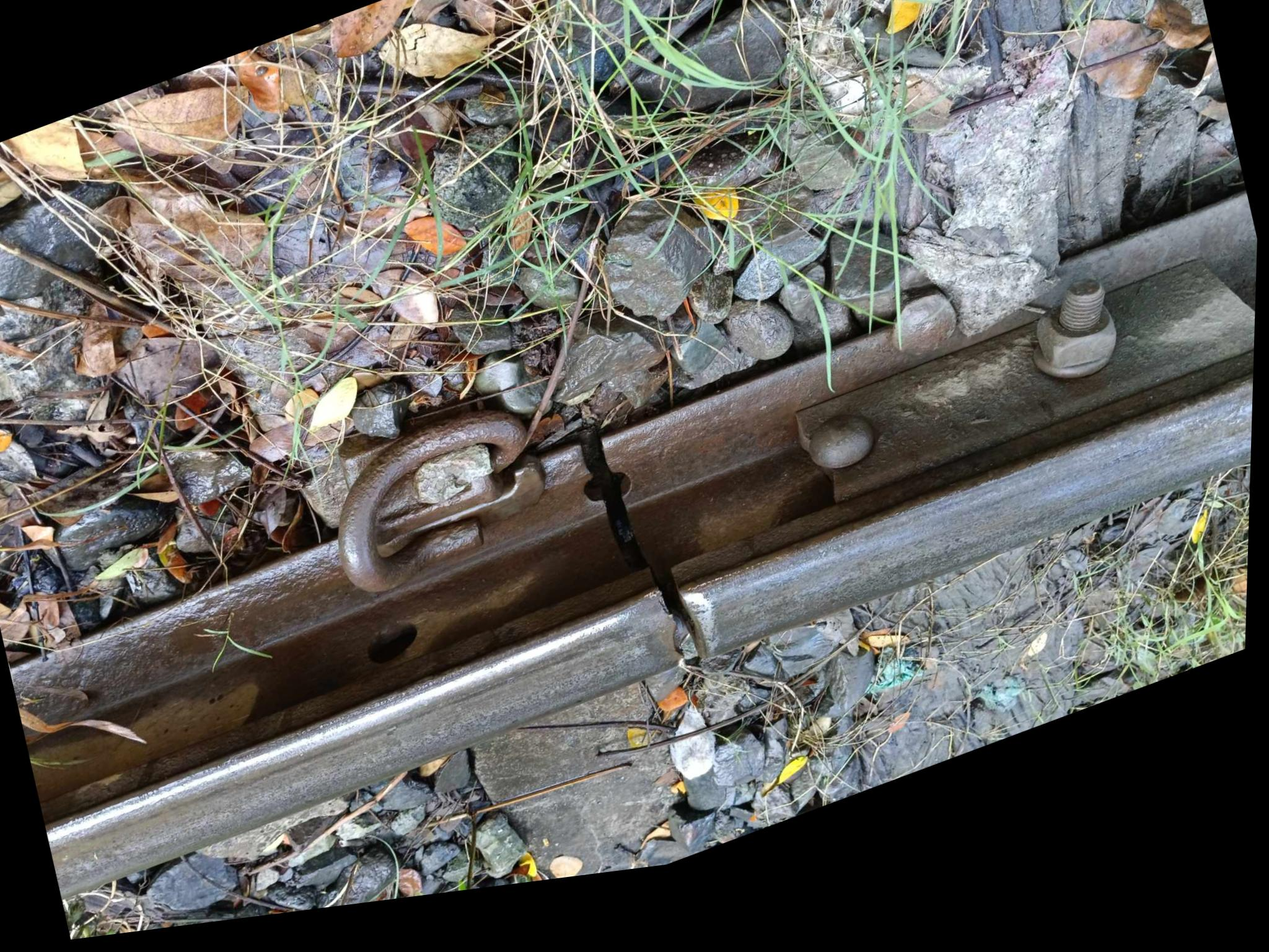person: (470, 379, 812, 754)
